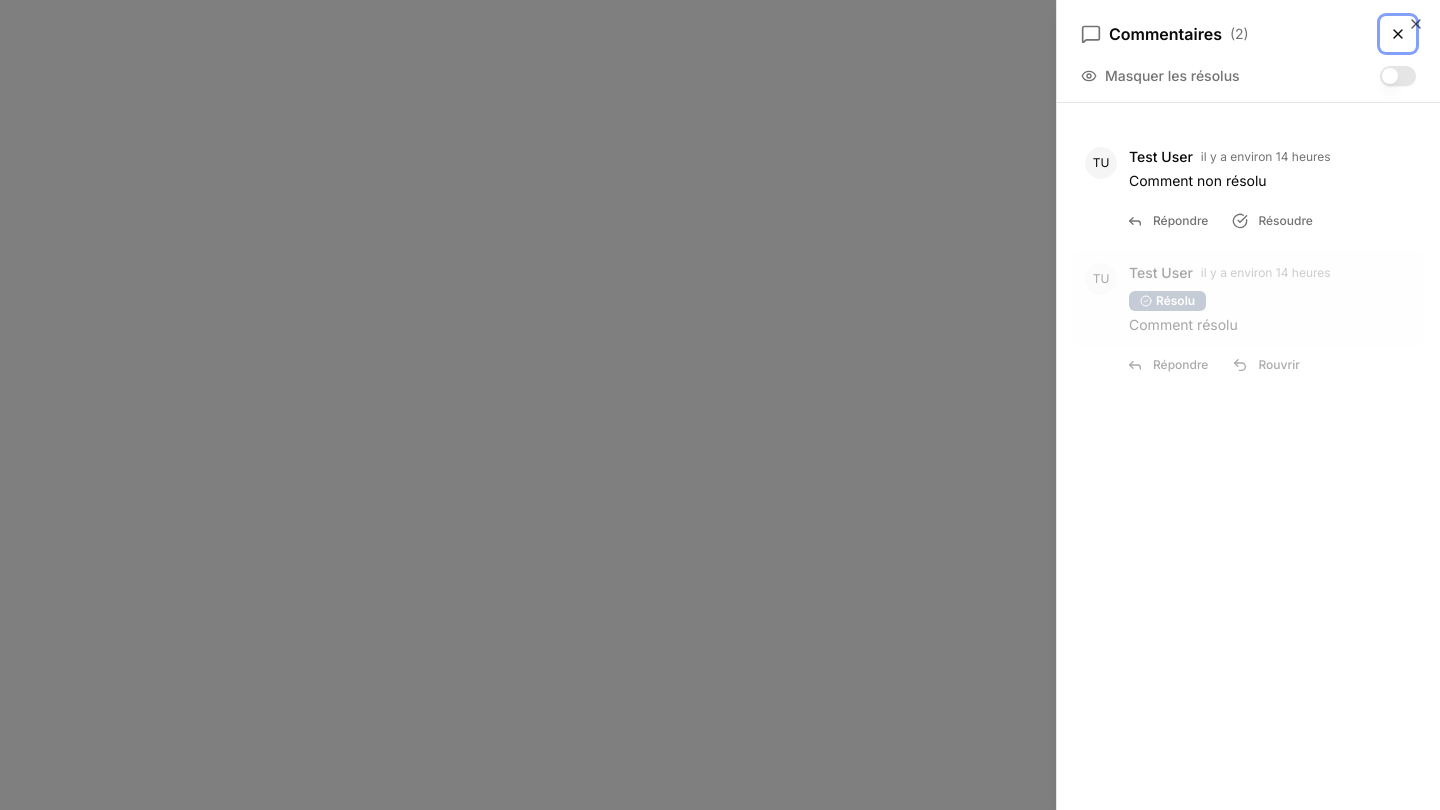
Scenario: CommentsSidebar › hide resolved filter (Story 9.6 AC #6) › should filter out resolved comments when toggle is enabled
Check: the text "Comment non résolu" is shown, box [1129,172,1267,189]
Check: the text "Comment résolu" is shown, box [1129,316,1238,333]
Note: Enable the filter
What coordinates should you click on to do the following:
click the switch named "masquer les commentaires résolus"
I would click on:
 (1398, 76)
Its box is [1380,66,1416,86].
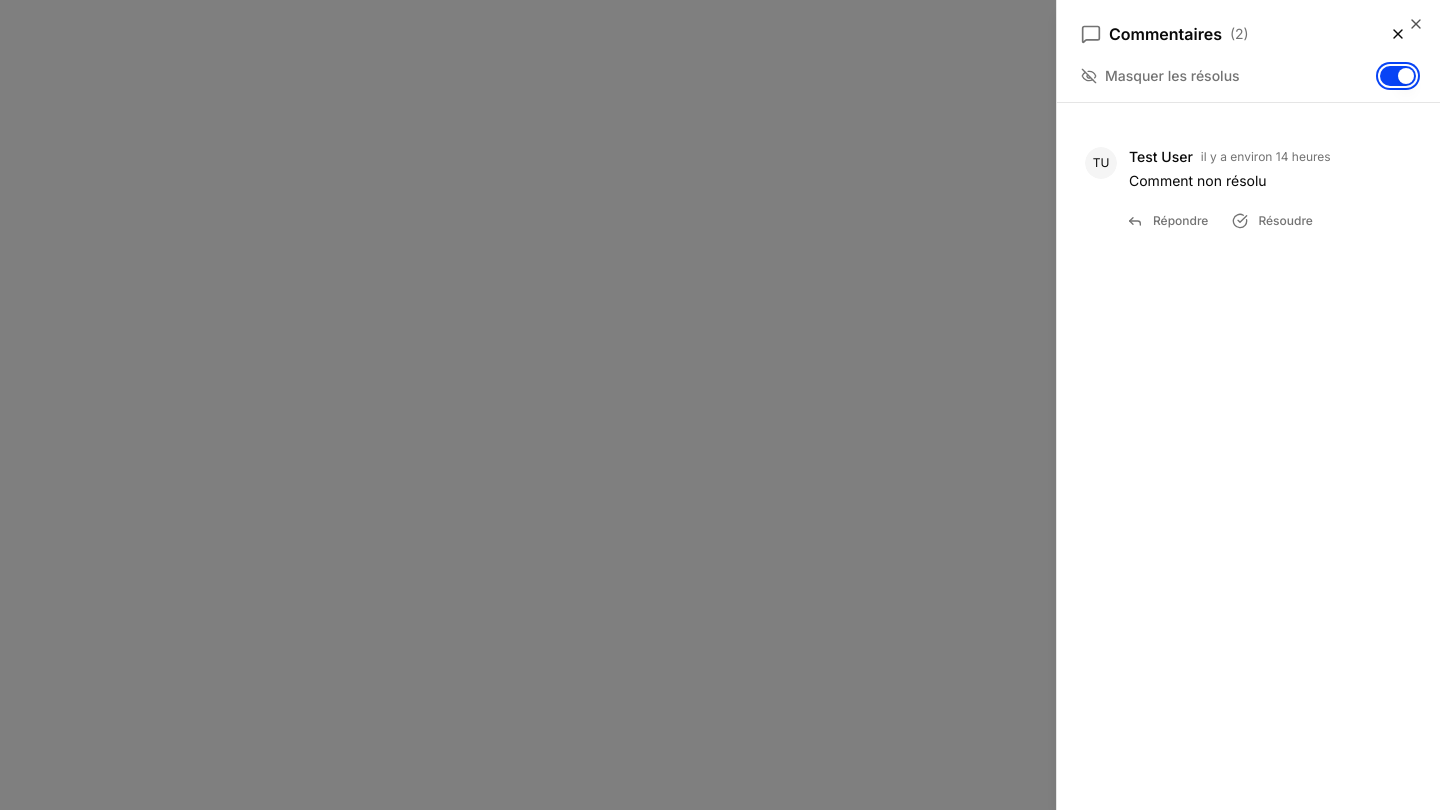
Check: the text "Comment non résolu" is shown, box [1129,172,1267,189]
Check: the text "Comment résolu" is gone
